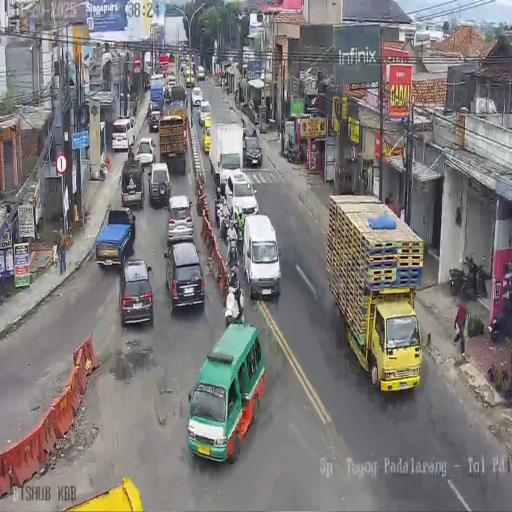3: (327, 194, 424, 393), (208, 122, 244, 190), (158, 105, 188, 174), (150, 72, 165, 104), (179, 56, 187, 75)
car: (187, 321, 266, 464), (242, 214, 281, 300), (164, 243, 205, 315), (118, 260, 154, 328), (96, 207, 136, 267), (224, 173, 258, 224), (165, 194, 194, 242), (120, 157, 146, 210), (148, 162, 172, 208), (112, 115, 137, 151), (134, 136, 156, 168), (243, 134, 263, 167), (148, 102, 162, 132), (198, 98, 212, 126), (120, 90, 133, 117), (190, 86, 202, 108), (184, 69, 195, 87), (166, 76, 177, 93), (197, 65, 204, 81)
truck: (450, 255, 489, 299), (490, 267, 512, 339), (285, 141, 302, 164), (242, 122, 248, 148)
